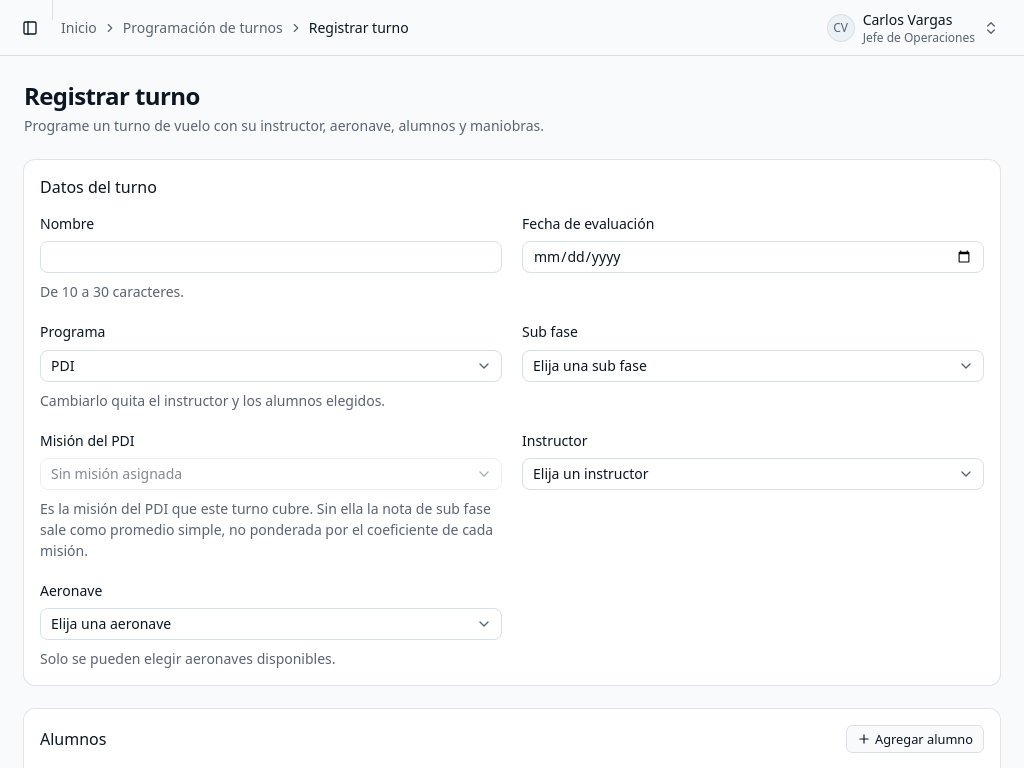
Scenario: Bloqueo por subsanación en el turno práctico › CA-RES-10 si el estado teórico no se puede consultar la fila muestra E23 y se puede guardar
Expected: the field labelled "Nombre" is shown, x1=40 y1=241 x2=502 y2=273
Click the button "Agregar alumno": (915, 739) x1=846 y1=725 x2=984 y2=753
(page scrolled)
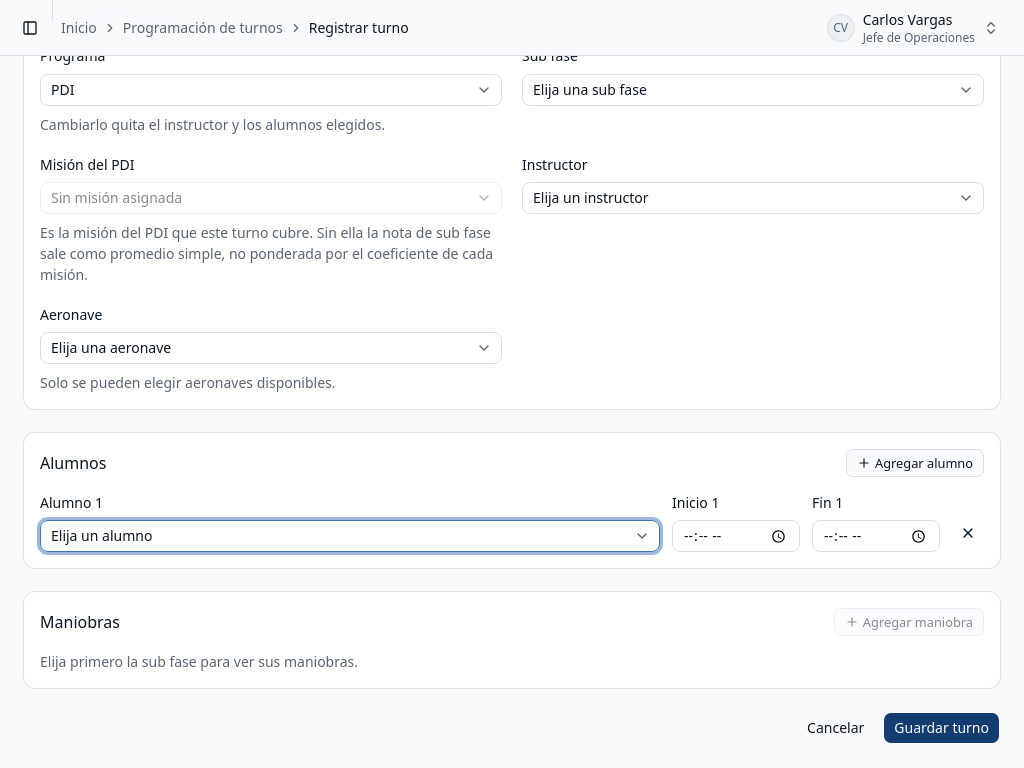
Select "Ana Torres Martinez" in the dropdown labelled "Alumno 1": (350, 536) x1=40 y1=520 x2=660 y2=552
(page scrolled)
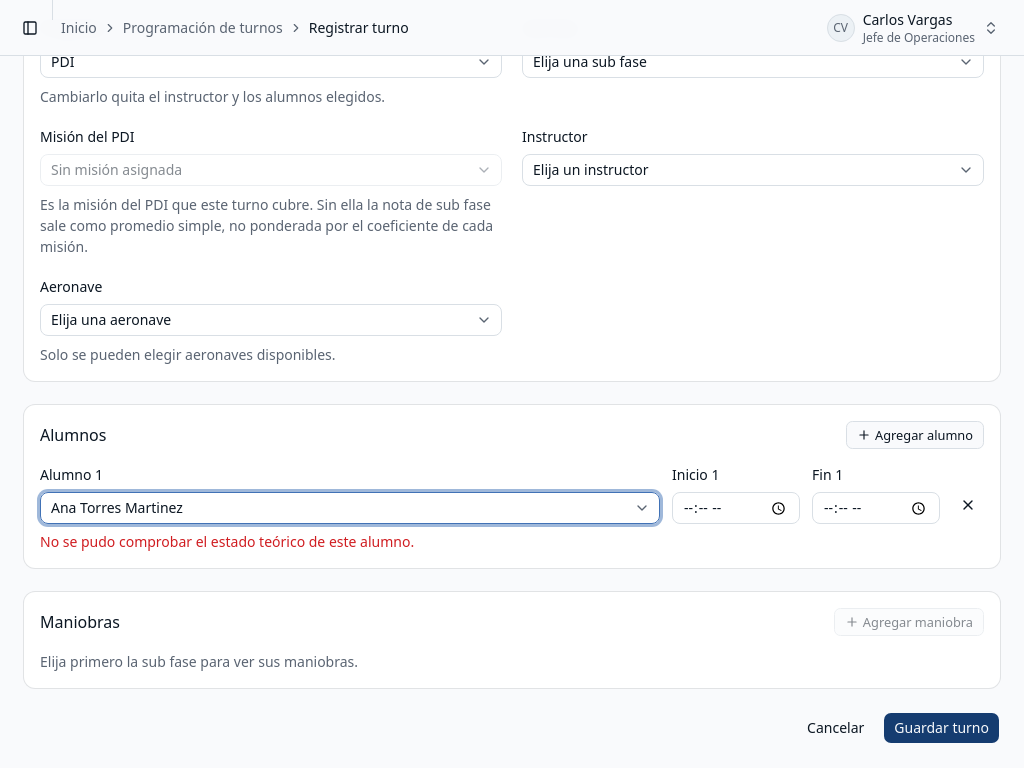
Expected: the button "Guardar turno" is enabled, x1=883 y1=712 x2=1000 y2=744
Result: the text "No se pudo comprobar el estado teórico de este alumno." is shown at x1=40 y1=532 x2=414 y2=551
